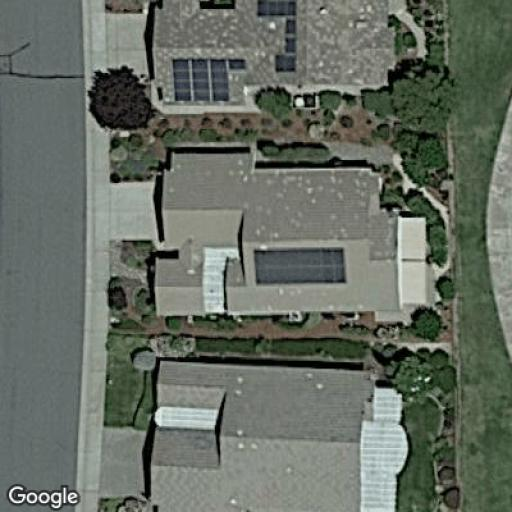solar-panel: (251, 244, 351, 288), (254, 0, 303, 76), (170, 54, 247, 101)
